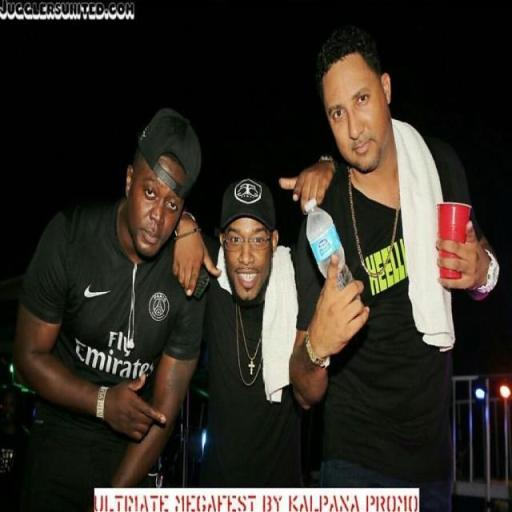Emirates: (73, 329, 154, 384)
